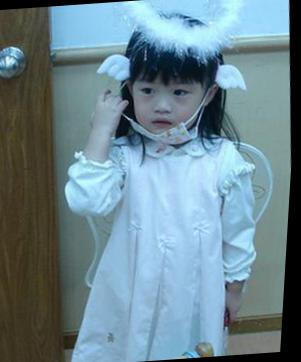WRONG: (135, 67, 210, 146)
